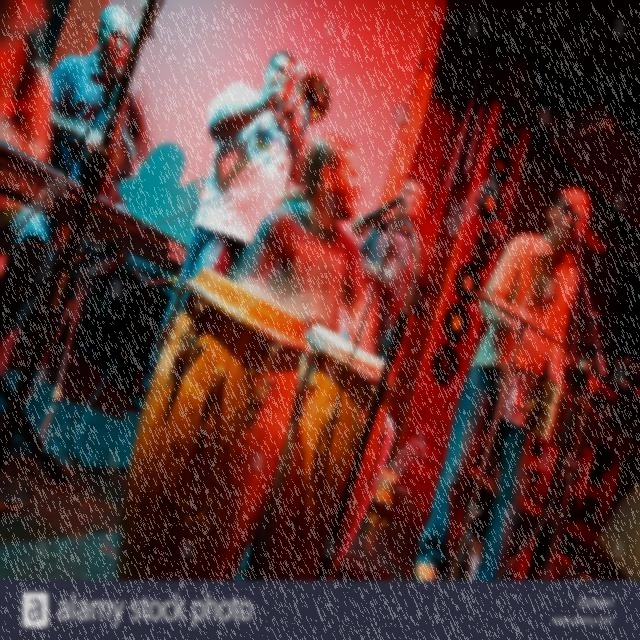pessoa: (412, 183, 596, 584), (234, 132, 396, 582), (140, 49, 316, 415), (0, 0, 59, 435), (0, 0, 63, 388), (44, 1, 154, 216), (350, 168, 438, 366)
